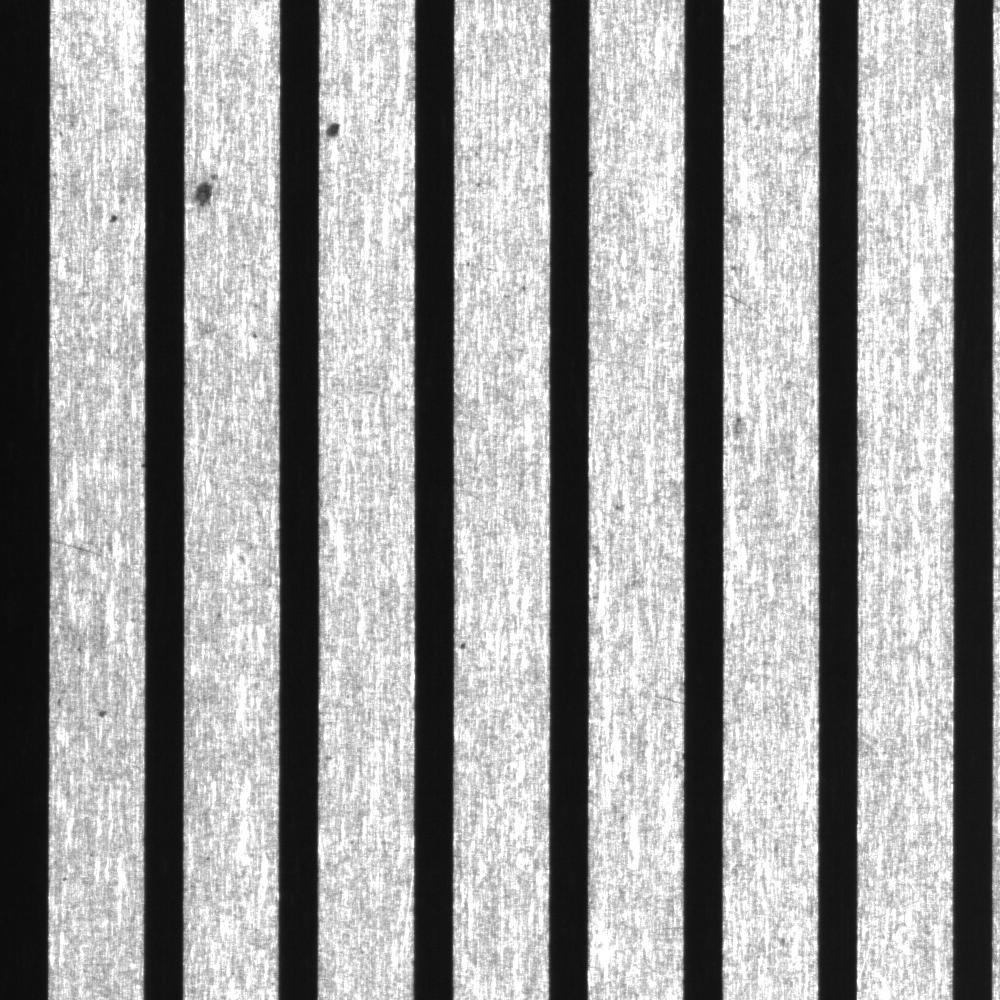Etching: (187, 164, 231, 212), (725, 405, 757, 453), (80, 699, 118, 734), (320, 112, 353, 144), (99, 200, 125, 231), (457, 632, 475, 662)
Scar: (184, 374, 226, 565), (49, 519, 139, 589), (726, 284, 784, 337), (646, 677, 683, 727)
